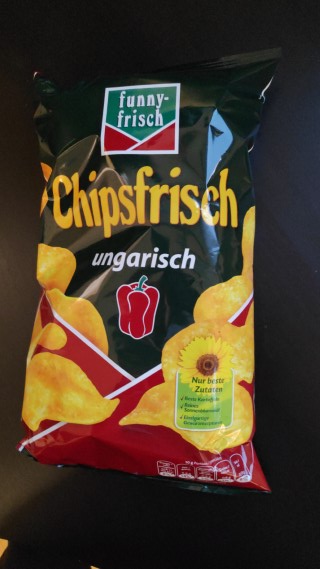chipsfrisch: (13, 45, 283, 497)
